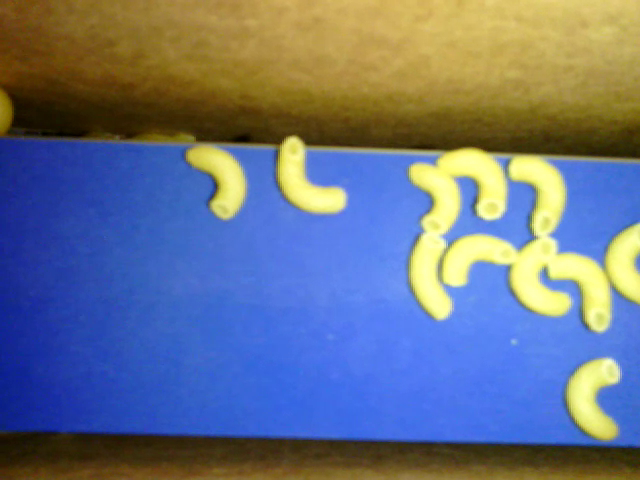elbow: (274, 136, 347, 215), (434, 146, 507, 224), (181, 140, 249, 220), (509, 235, 571, 322), (550, 251, 612, 337), (508, 151, 567, 240), (566, 358, 621, 445), (441, 232, 522, 290), (404, 229, 454, 318), (407, 160, 459, 235), (601, 219, 638, 300)
